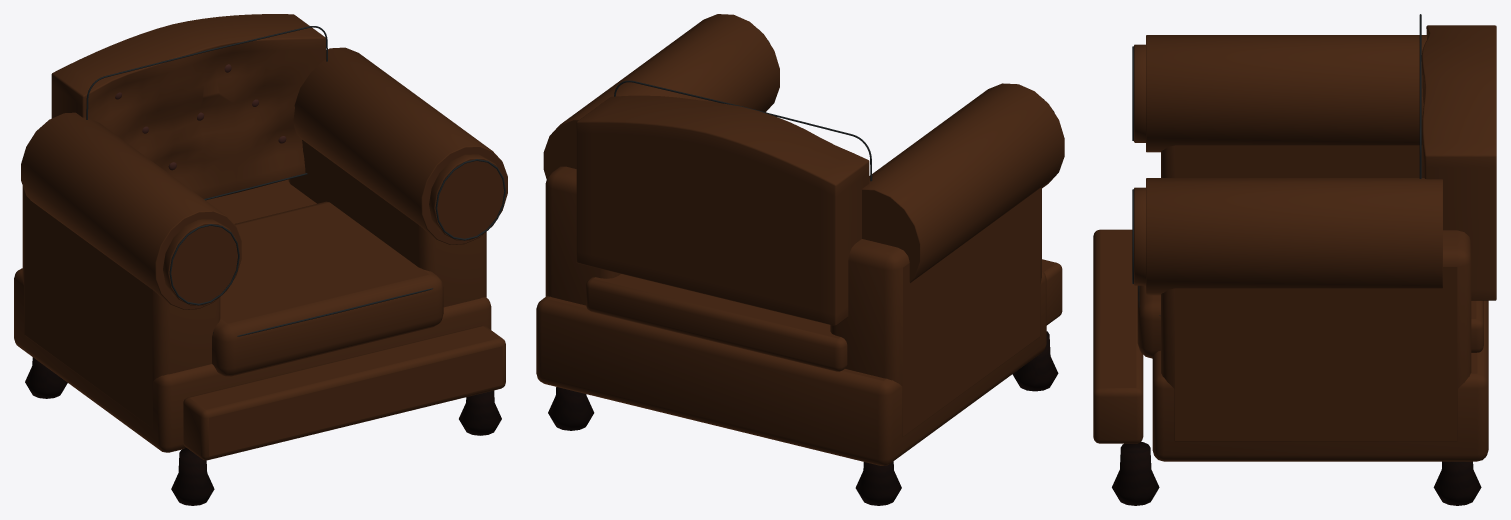
Rendered from chair_high_end_lod1.glb.
3 views of the same model, side by side, from view 1: azimuth 30°, elevation 25°; view 2: azimuth 150°, elevation 25°; view 3: azimuth 270°, elevation 25° (orthographic). The views are drawn at different scales.
Parts seen in each view (by area): view 1: LoungeBody_LOD1, LoungeWood_LOD1, LoungeTrim_LOD1; view 2: LoungeBody_LOD1, LoungeWood_LOD1, LoungeTrim_LOD1; view 3: LoungeBody_LOD1, LoungeWood_LOD1, LoungeTrim_LOD1.
Part boxes in pixels (bbox=[...]): LoungeBody_LOD1: bbox=[14, 14, 507, 460]; LoungeWood_LOD1: bbox=[25, 357, 501, 505]; LoungeTrim_LOD1: bbox=[86, 26, 505, 336]; LoungeBody_LOD1: bbox=[536, 14, 1064, 465]; LoungeWood_LOD1: bbox=[548, 331, 1058, 505]; LoungeTrim_LOD1: bbox=[614, 30, 1054, 181]; LoungeBody_LOD1: bbox=[1093, 25, 1496, 461]; LoungeWood_LOD1: bbox=[1112, 442, 1481, 505]; LoungeTrim_LOD1: bbox=[1132, 14, 1421, 315].
Size of the model in its own units: 1.03 by 0.895 by 0.9275.
4 materials, 1 textured.
